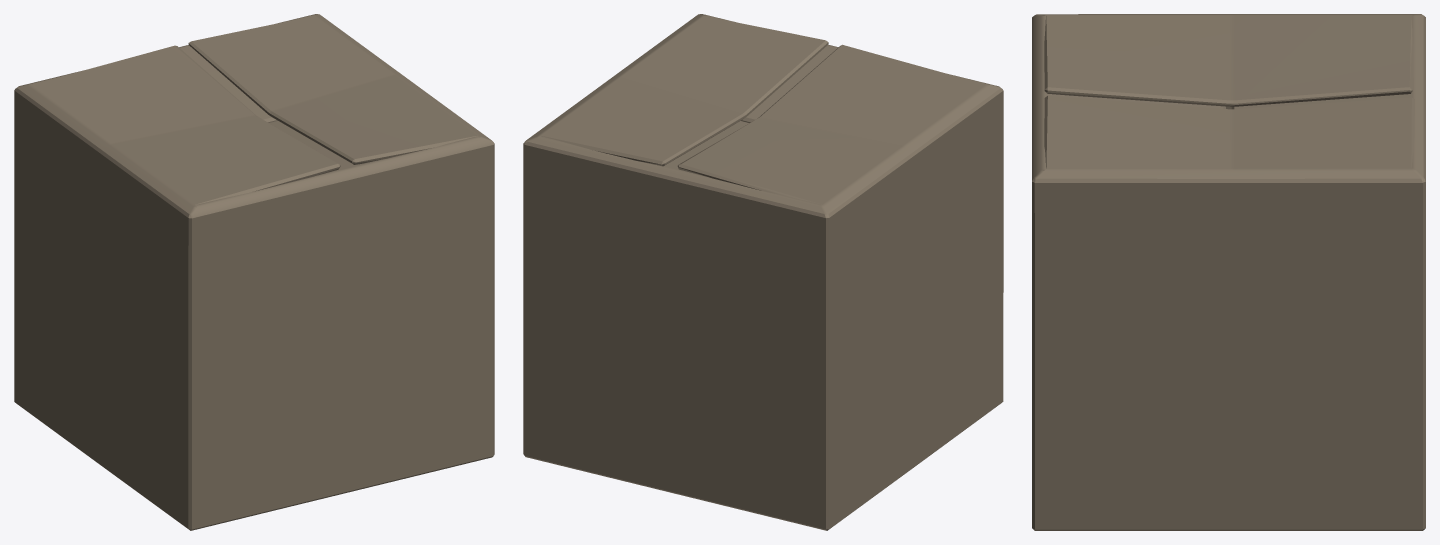
The model's file is A4C_CloseBox.fbx.
3 renders of one model, left to right at view 1: azimuth 30°, elevation 25°; view 2: azimuth 150°, elevation 25°; view 3: azimuth 270°, elevation 25°, orthographic. The views are drawn at different scales.
Parts seen in each view (by area): view 1: pCube6; view 2: pCube6; view 3: pCube6.
Part boxes in pixels (x1=…): pCube6: x1=14, y1=14, x2=494, y2=530; pCube6: x1=523, y1=14, x2=1003, y2=530; pCube6: x1=1032, y1=14, x2=1425, y2=530.
Size of the model in its own units: 1 by 1.02 by 1.
